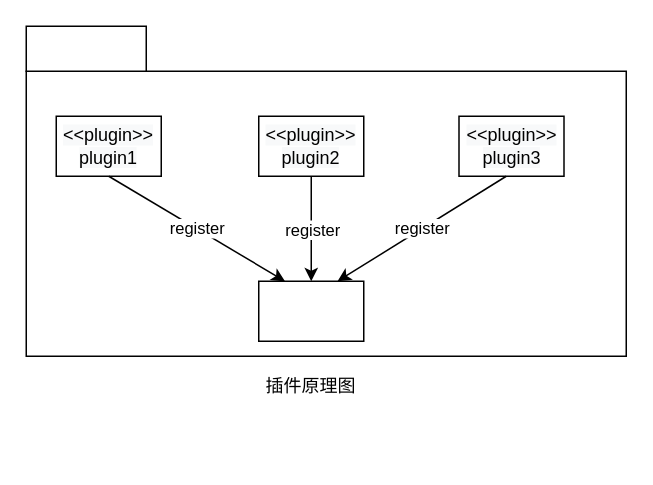
This 653x485 diagram has some shape labels left out. The shapes that lost their labels are listed below. From the top down, each one's centre as x and y in pixels, then its label:
At point (85, 48): "C++ Plugins".
At point (310, 310): "<<plugin>> x3manager".
